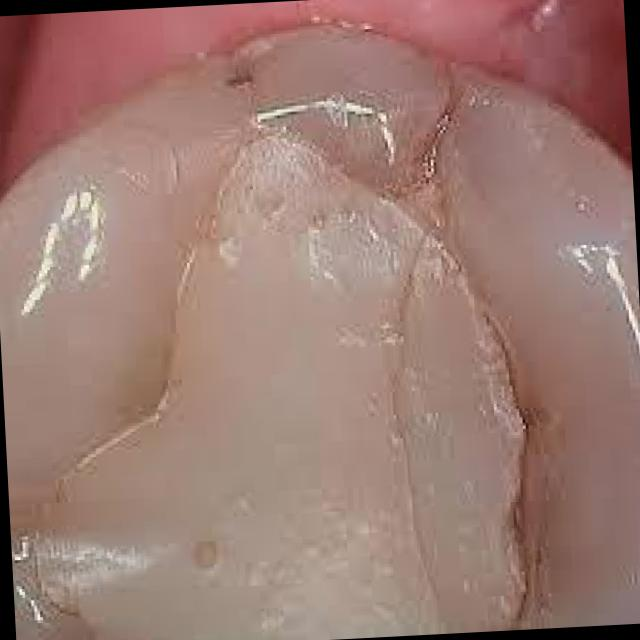Tooth: (0, 14, 640, 640)
